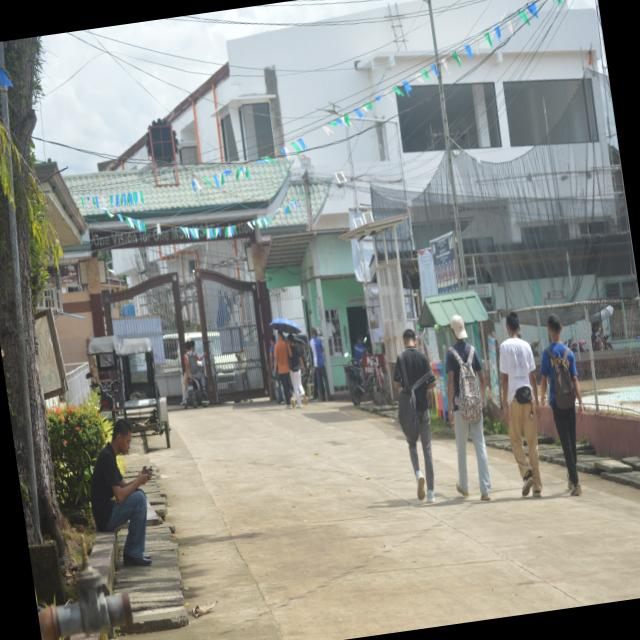person: (91, 419, 152, 566), (446, 315, 491, 500), (500, 311, 542, 497), (541, 314, 584, 495), (408, 376, 435, 502), (287, 333, 308, 408), (310, 328, 331, 401), (274, 332, 293, 408), (354, 337, 367, 360)
